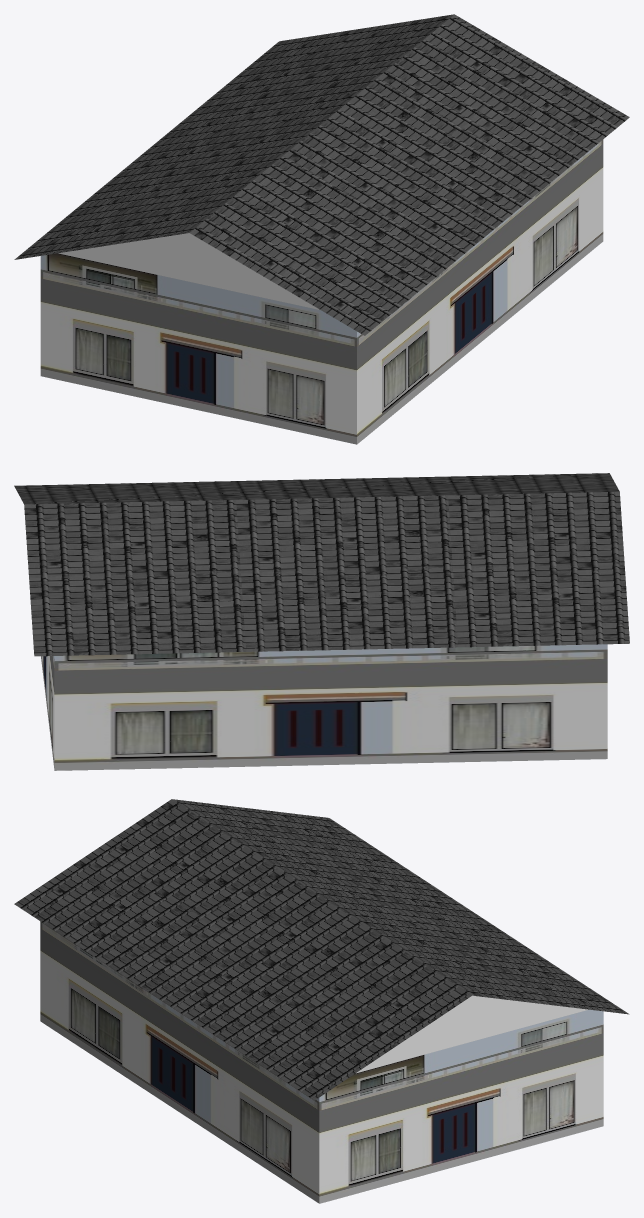
The picture shows the model from 3 angles, top to bottom: view 1: azimuth 30°, elevation 25°; view 2: azimuth 150°, elevation 25°; view 3: azimuth 270°, elevation 25°; orthographic projection. The views are drawn at different scales.
Parts seen in each view (by area): view 1: CityEngineMaterial_8_m, CityEngineMaterial_7_m, CityEngineMaterial_3_m; view 2: CityEngineMaterial_8_m, CityEngineMaterial_7_m; view 3: CityEngineMaterial_8_m, CityEngineMaterial_7_m, CityEngineMaterial_3_m.
Boxes of the visible parts, bbox=[...] form: CityEngineMaterial_8_m: bbox=[14, 14, 629, 335]; CityEngineMaterial_7_m: bbox=[40, 139, 603, 444]; CityEngineMaterial_3_m: bbox=[58, 233, 319, 309]; CityEngineMaterial_8_m: bbox=[14, 473, 629, 656]; CityEngineMaterial_7_m: bbox=[41, 644, 607, 770]; CityEngineMaterial_8_m: bbox=[14, 799, 629, 1100]; CityEngineMaterial_7_m: bbox=[40, 921, 603, 1203]; CityEngineMaterial_3_m: bbox=[356, 995, 588, 1073].
Size of the model in its own units: 33.95 by 9.88 by 31.26.
